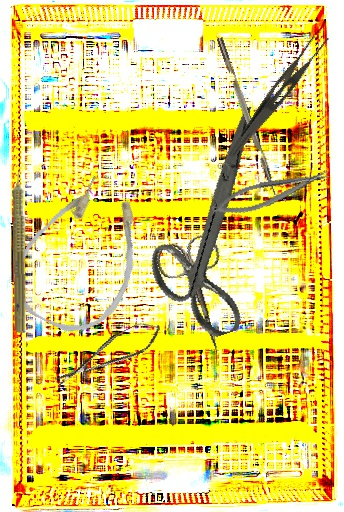Cannula: (0, 162, 166, 348)
Chopper: (216, 34, 288, 206)
Dressing Forceps: (227, 26, 332, 168)
Handpiece: (9, 156, 33, 334)
Iris Scissors: (113, 106, 317, 350), (153, 231, 246, 361)
Micro Scissor: (48, 315, 167, 393)
Needle Holder: (208, 164, 334, 222)
